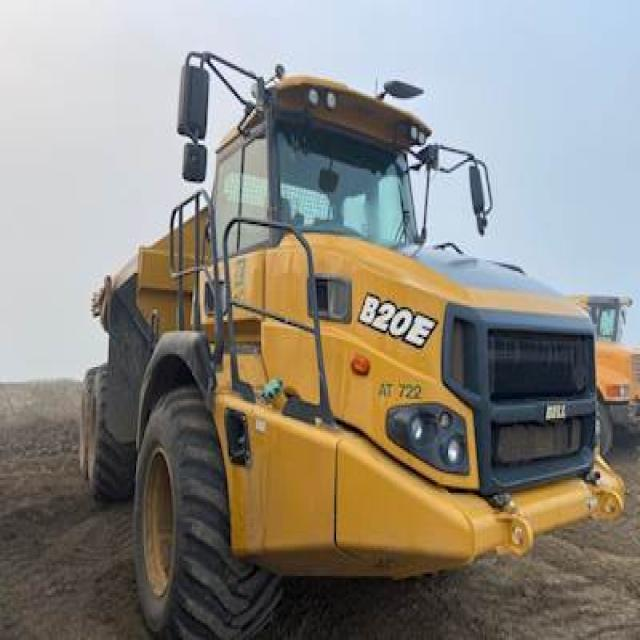dump_truck: (74, 43, 620, 632)
